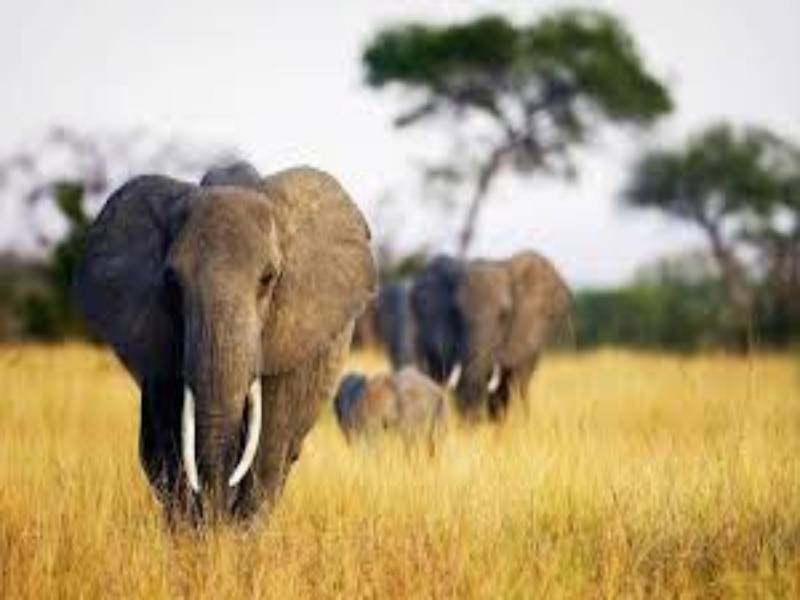elephant: (62, 161, 573, 538)
